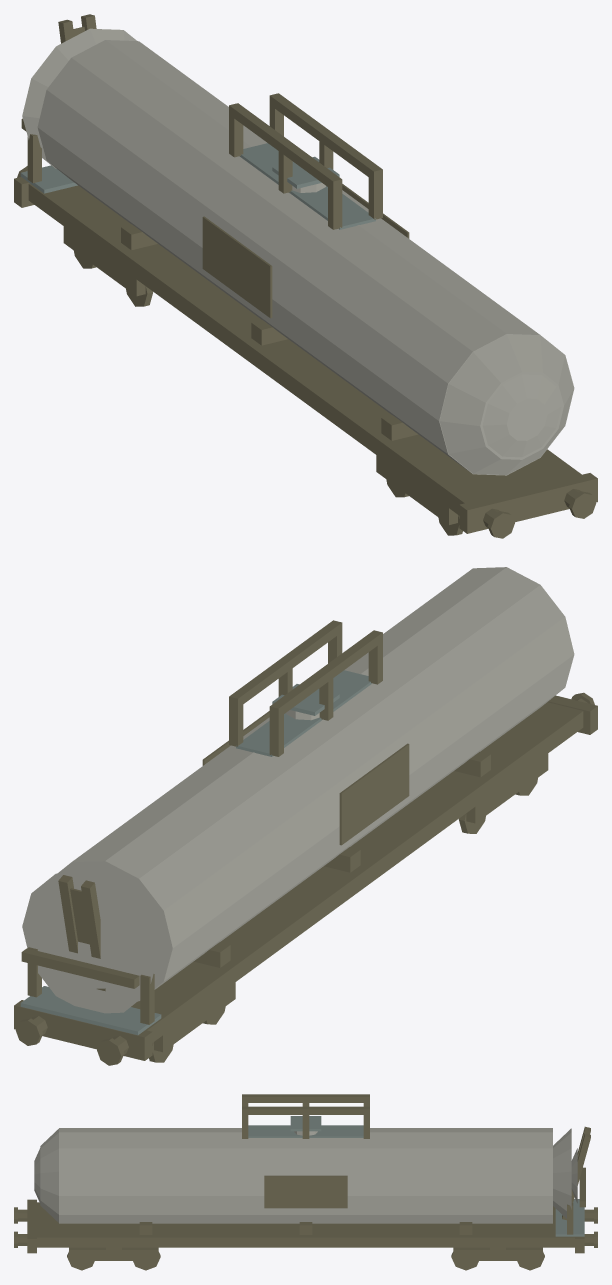
The model's file is SM_VagonCisterna_v0_Limpia_LOD1.fbx.
3 renders of one model, top to bottom at view 1: azimuth 30°, elevation 25°; view 2: azimuth 150°, elevation 25°; view 3: azimuth 270°, elevation 25°, orthographic. The views are drawn at different scales.
Parts seen in each view (by area): view 1: SM_bloques.vagon_cisterna_v0_LOD1; view 2: SM_bloques.vagon_cisterna_v0_LOD1; view 3: SM_bloques.vagon_cisterna_v0_LOD1.
Boxes of the visible parts, left/top/right/bottom form: SM_bloques.vagon_cisterna_v0_LOD1: left=14, top=14, right=597, bottom=538; SM_bloques.vagon_cisterna_v0_LOD1: left=14, top=567, right=597, bottom=1065; SM_bloques.vagon_cisterna_v0_LOD1: left=14, top=1094, right=597, bottom=1270.
Bounding box in the file's own units: 3.08 × 5.4 × 18.24.
